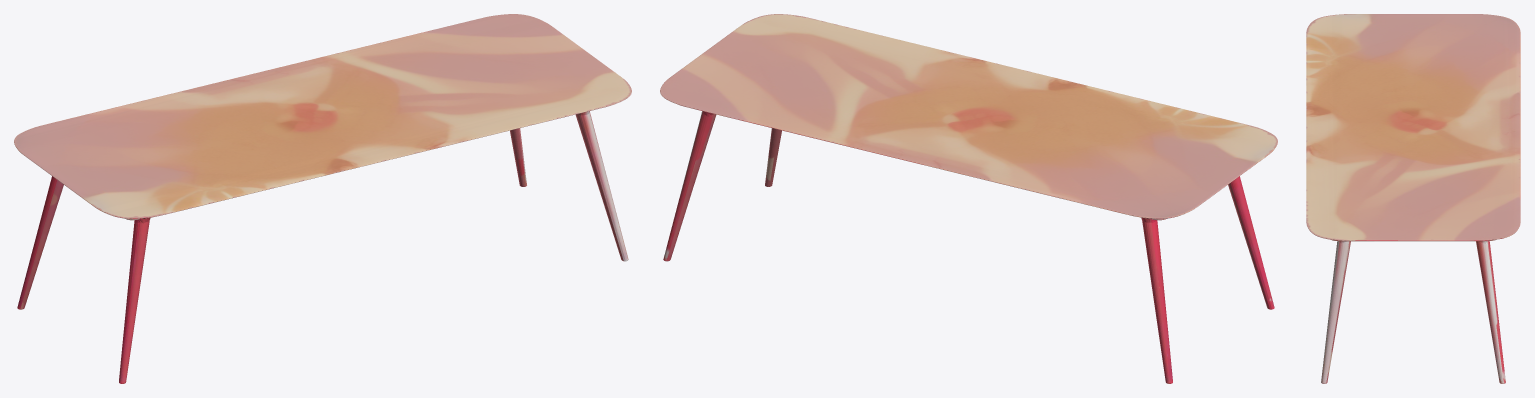
Rendered from edited_mesh.glb.
3 views of the same model, side by side, from view 1: azimuth 30°, elevation 25°; view 2: azimuth 150°, elevation 25°; view 3: azimuth 270°, elevation 25° (orthographic). The views are drawn at different scales.
Parts seen in each view (by area): view 1: normalized_model.obj; view 2: normalized_model.obj; view 3: normalized_model.obj.
Part boxes in pixels (x1,y1,x2,y2): normalized_model.obj: [14, 14, 631, 383]; normalized_model.obj: [660, 14, 1277, 383]; normalized_model.obj: [1306, 14, 1520, 383].
Size of the model in its own units: 2 by 0.6096 by 0.8.
1 material, 1 textured.
